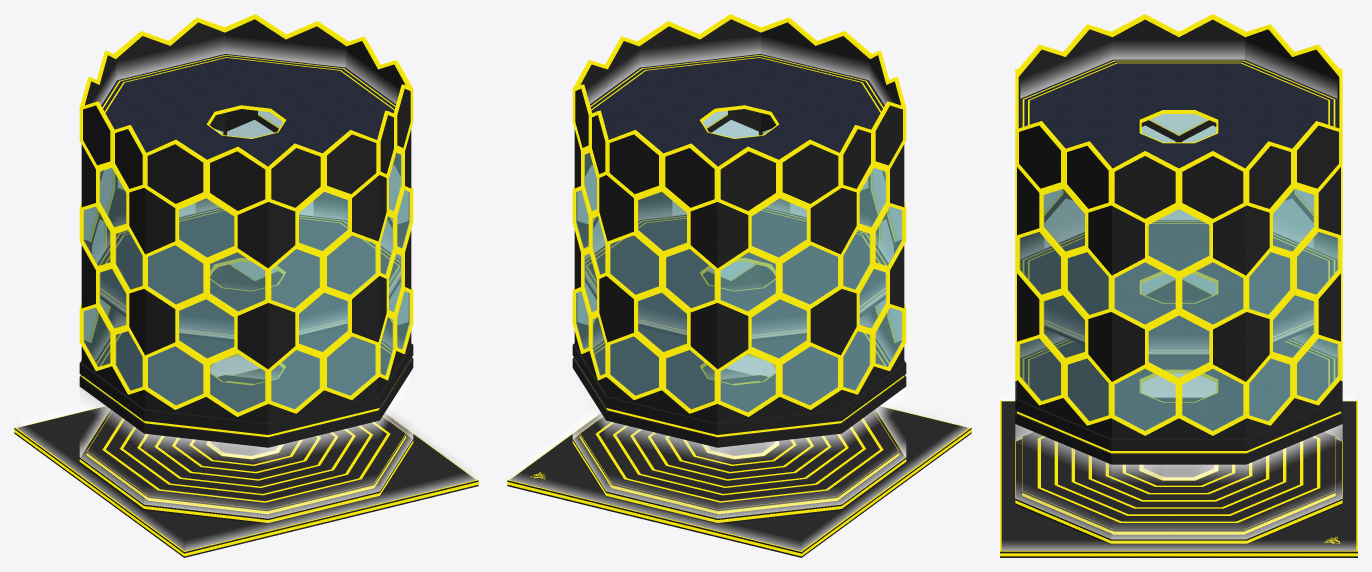
File: Dhingia Builds 07 Size 1x1 Yellow.glb
3 renders of one model, left to right at view 1: azimuth 30°, elevation 25°; view 2: azimuth 150°, elevation 25°; view 3: azimuth 270°, elevation 25°, orthographic. The views are drawn at different scales.
Parts seen in each view (by area): view 1: Mesh_3, Mesh_2, Mesh_0, Mesh_9, Mesh_8, Mesh_7, Mesh_1, Mesh_15, Lift; view 2: Mesh_3, Mesh_2, Mesh_0, Mesh_9, Mesh_8, Mesh_7, Mesh_1, Mesh_15, Lift; view 3: Mesh_3, Mesh_2, Mesh_0, Mesh_8, Mesh_9, Mesh_7, Mesh_1, Mesh_15, Lift.
Part boxes in pixels (bbox=[...]): Mesh_3: bbox=[79, 14, 413, 447]; Mesh_2: bbox=[83, 111, 409, 412]; Mesh_0: bbox=[14, 365, 478, 557]; Mesh_9: bbox=[16, 40, 476, 550]; Mesh_8: bbox=[101, 53, 395, 166]; Mesh_7: bbox=[97, 207, 400, 341]; Mesh_1: bbox=[95, 324, 392, 411]; Mesh_15: bbox=[102, 381, 390, 502]; Lift: bbox=[210, 442, 279, 457]; Mesh_3: bbox=[572, 14, 906, 447]; Mesh_2: bbox=[576, 111, 902, 412]; Mesh_0: bbox=[507, 365, 971, 557]; Mesh_9: bbox=[509, 40, 969, 550]; Mesh_8: bbox=[590, 53, 884, 166]; Mesh_7: bbox=[585, 207, 888, 341]; Mesh_1: bbox=[593, 324, 890, 411]; Mesh_15: bbox=[595, 381, 883, 502]; Lift: bbox=[706, 442, 775, 457]; Mesh_3: bbox=[1015, 14, 1342, 464]; Mesh_2: bbox=[1019, 114, 1338, 430]; Mesh_0: bbox=[1000, 398, 1357, 557]; Mesh_8: bbox=[1019, 59, 1338, 168]; Mesh_9: bbox=[1001, 45, 1356, 550]; Mesh_7: bbox=[1020, 220, 1337, 357]; Mesh_1: bbox=[1020, 338, 1337, 430]; Mesh_15: bbox=[1037, 436, 1320, 522]; Lift: bbox=[1143, 465, 1214, 478].
Size of what is drawn, in the model's own units: 16 by 19.7 by 16.
Materials: 5 (3 with a texture image).
